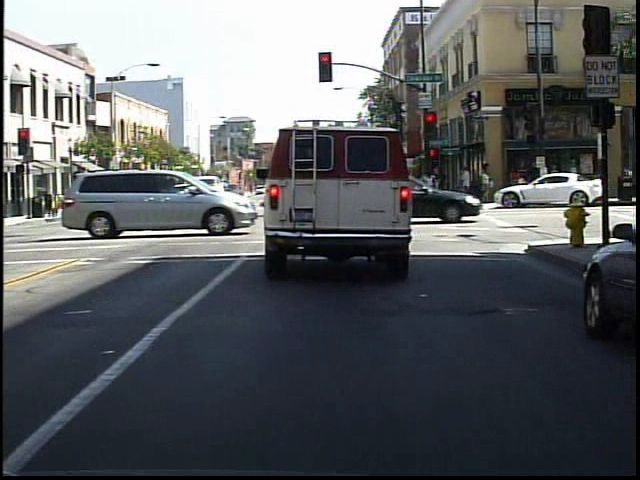person: (524, 157, 544, 208), (504, 161, 525, 183)
